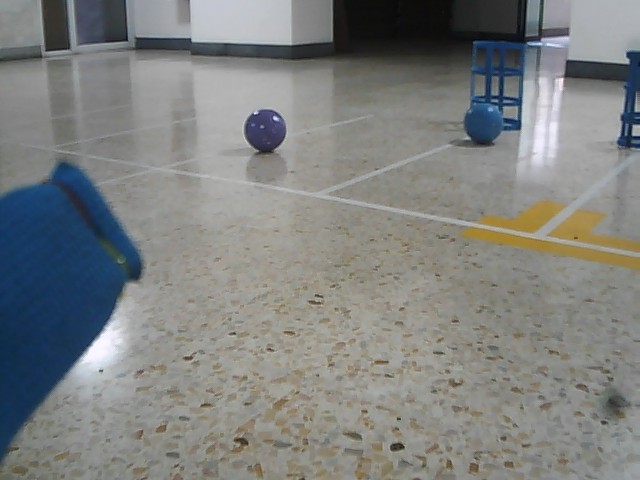Blue ball: (462, 103, 504, 144)
Cyro: (468, 39, 527, 132), (615, 49, 640, 150)
Purple ball: (242, 108, 287, 153)
